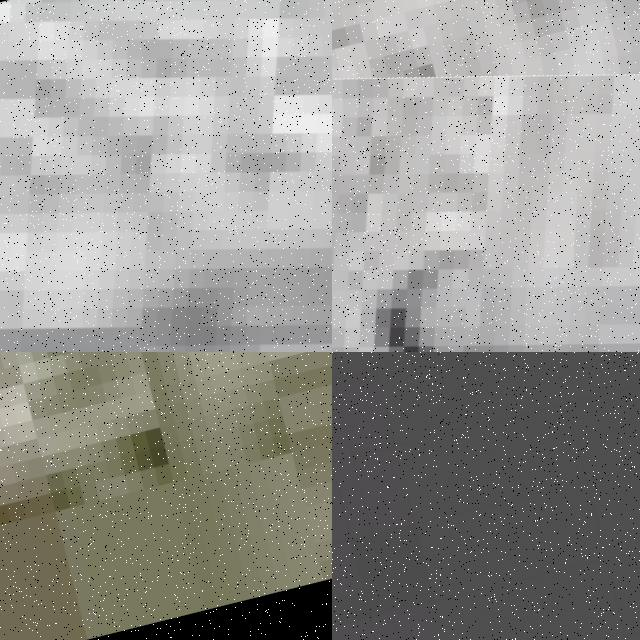drone: (0, 0, 332, 352), (332, 0, 640, 352)
